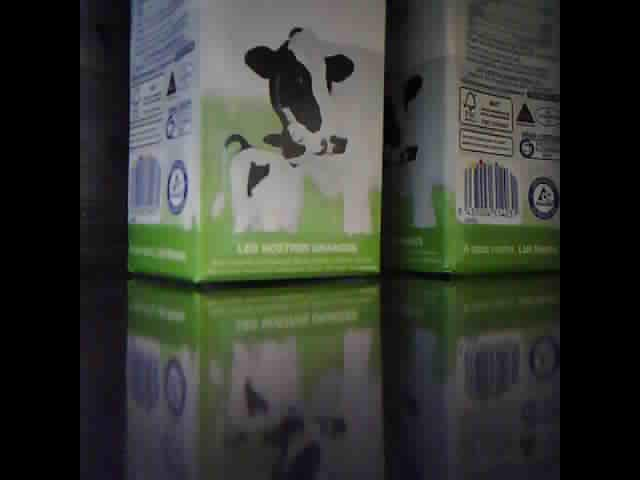leche: (128, 3, 384, 287), (387, 4, 558, 276), (82, 6, 130, 270)
